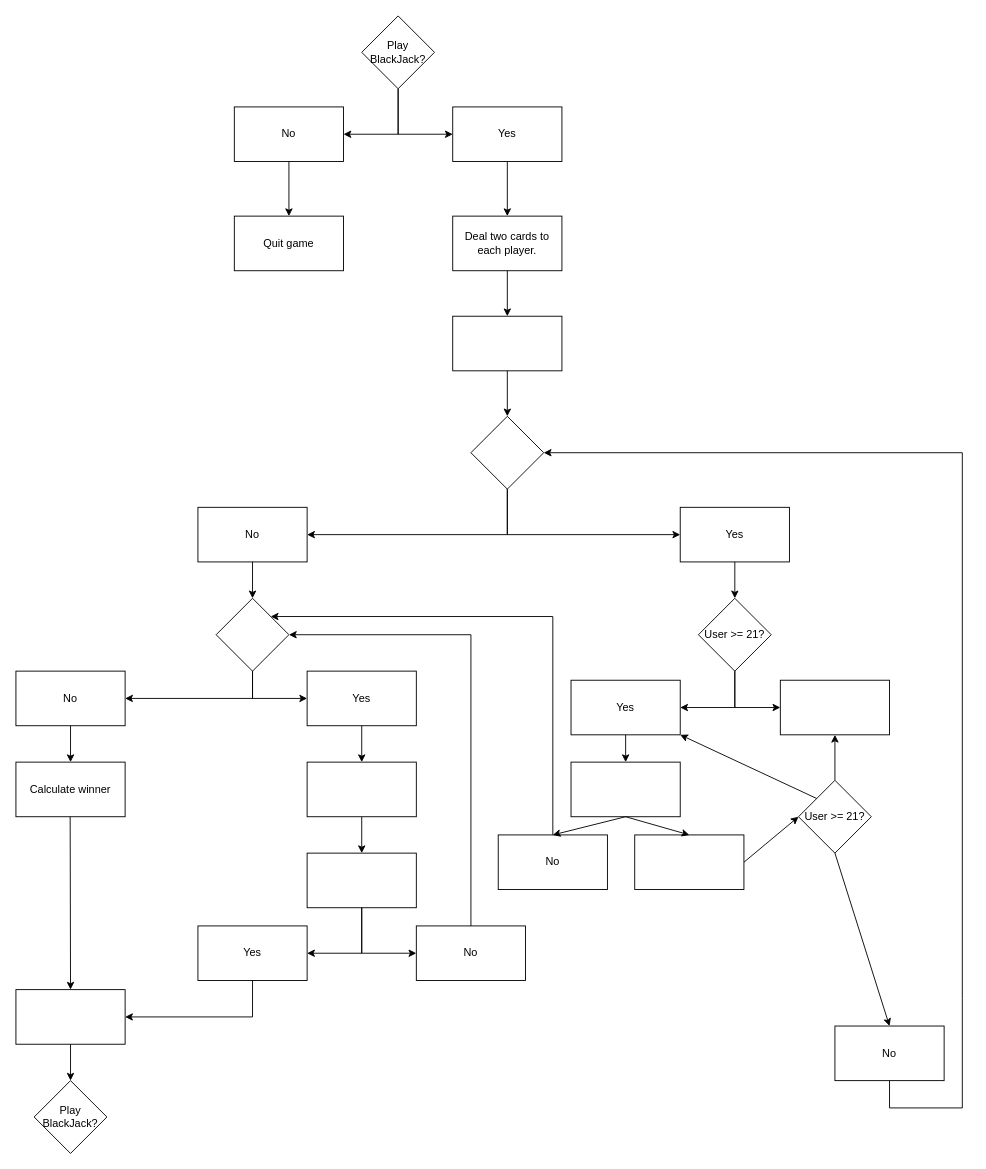
The diagram is 986 pixels wide and 1169 high, and some of its shapes have lost their labels. Each missing label, with the centre of its shape:
"Deal another card" belongs at point (361, 789).
"Deal another card to user?" belongs at point (507, 452).
"Dealer < 17?" belongs at point (252, 634).
"Dealer > 21?" belongs at point (361, 880).
"Is Ace in hand?" belongs at point (625, 789).
"No, deal a card" belongs at point (834, 707).
"Show player both cards. Show player one dealer card" belongs at point (507, 343).
"Show results" belongs at point (70, 1016).
"Yes, make 1" belongs at point (689, 862).
